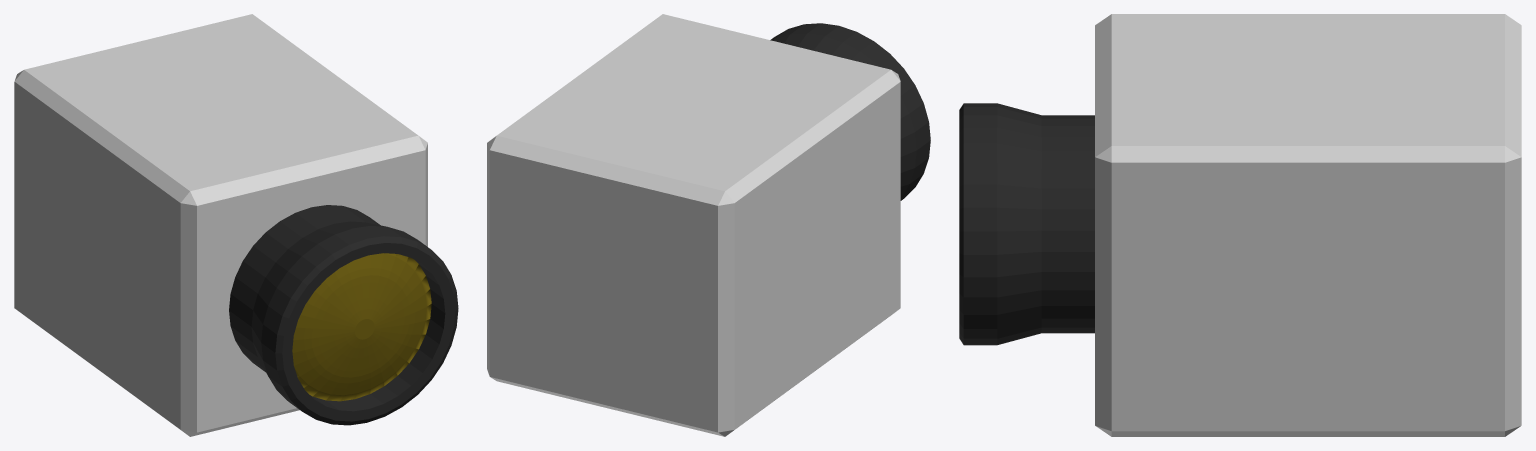
The model's file is Robot2_Head.fbx.
3 renders of one model, left to right at view 1: azimuth 30°, elevation 25°; view 2: azimuth 150°, elevation 25°; view 3: azimuth 270°, elevation 25°, orthographic. The views are drawn at different scales.
Visible parts, largest first — view 1: Head; view 2: Head; view 3: Head.
Part boxes in pixels (left/top/right/bottom): Head: left=14, top=14, right=458, bottom=436; Head: left=487, top=14, right=930, bottom=436; Head: left=959, top=14, right=1521, bottom=436.
Bounding box in the file's own units: 75.88 × 71.97 × 126.
